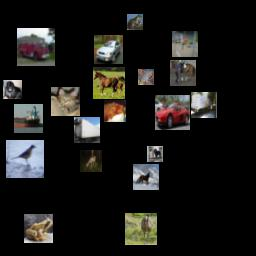automobile: (155, 95, 190, 130), (94, 35, 123, 64)
bird: (6, 140, 44, 178), (125, 213, 157, 245), (172, 31, 198, 57)
cat: (51, 87, 80, 116), (104, 100, 126, 122)
deer: (80, 150, 102, 172)
dog: (3, 80, 22, 99), (147, 146, 163, 162)
frog: (24, 214, 53, 243), (138, 69, 154, 85), (127, 14, 143, 30)
ship: (14, 104, 43, 133)
truck: (17, 28, 55, 66), (74, 117, 100, 143), (191, 92, 217, 118)
